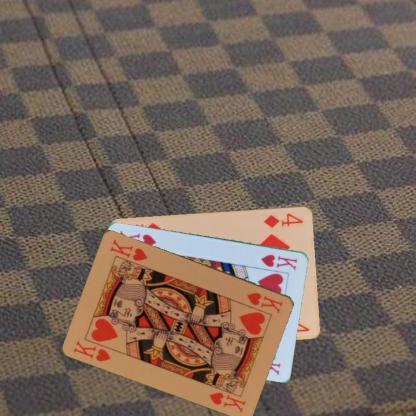4d: (261, 210, 305, 229)
Kh: (71, 337, 113, 363), (244, 289, 284, 315), (259, 252, 299, 272)
